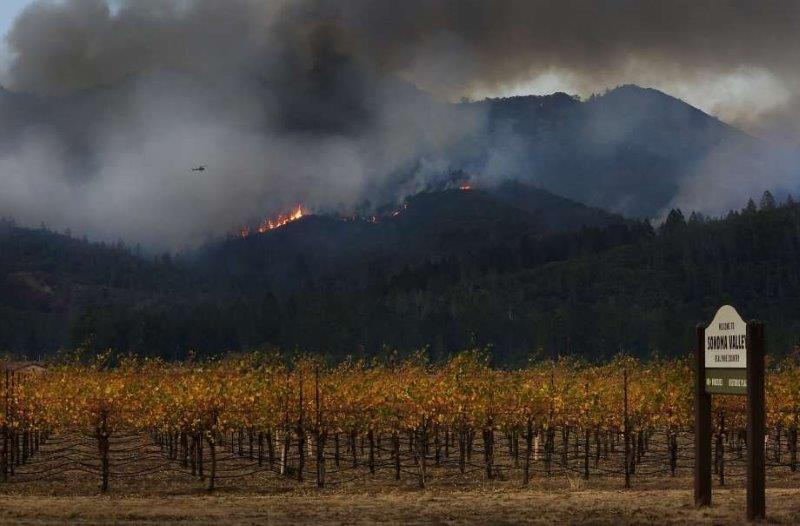Fire: (250, 202, 309, 235), (458, 185, 473, 191)
